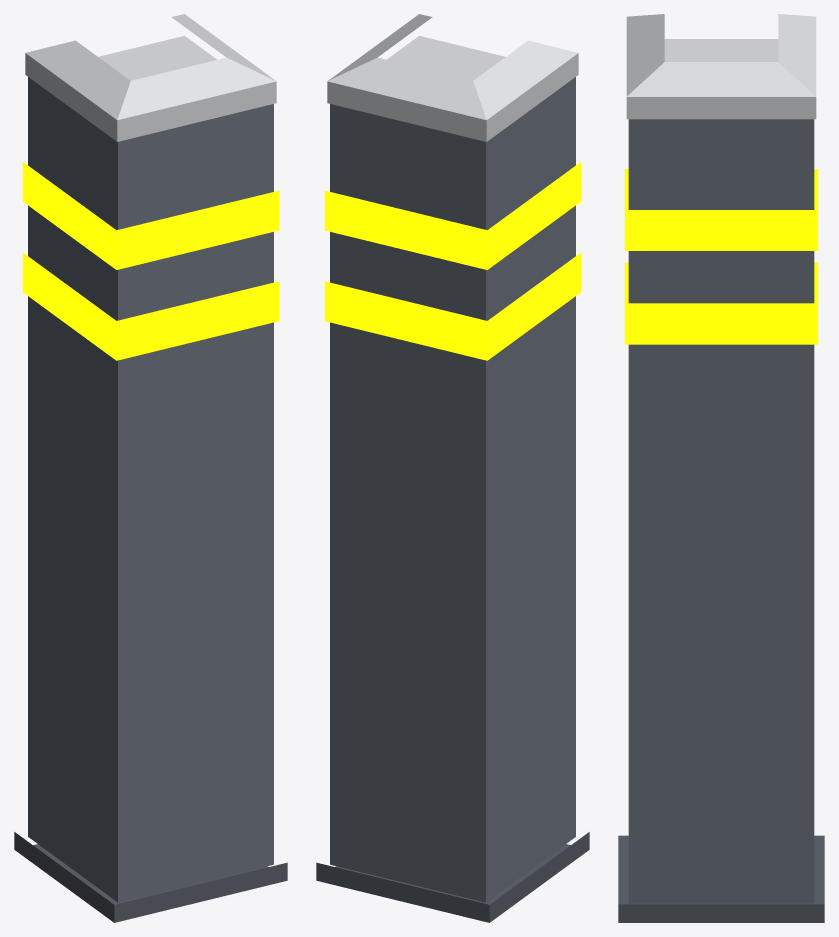
Rendered from ext_bollard_02.glb.
The picture shows the model from 3 angles, left to right: view 1: azimuth 30°, elevation 25°; view 2: azimuth 150°, elevation 25°; view 3: azimuth 270°, elevation 25°; orthographic projection. The views are drawn at different scales.
Visible parts, largest first — view 1: Post, Amber_Bands, Cap, Base_Plate; view 2: Post, Amber_Bands, Cap, Base_Plate; view 3: Post, Cap, Amber_Bands, Base_Plate.
Boxes of the visible parts, <box> form: Post: <box>28,77,273,902</box>; Amber_Bands: <box>22,162,279,360</box>; Cap: <box>25,14,276,141</box>; Base_Plate: <box>14,832,287,922</box>; Post: <box>330,77,575,902</box>; Amber_Bands: <box>324,162,581,360</box>; Cap: <box>327,14,578,141</box>; Base_Plate: <box>316,832,589,922</box>; Post: <box>628,119,814,903</box>; Cap: <box>626,14,816,119</box>; Amber_Bands: <box>624,169,818,344</box>; Base_Plate: <box>618,835,824,922</box>.
Size of the model in its own units: 0.2 by 0.9 by 0.2.
